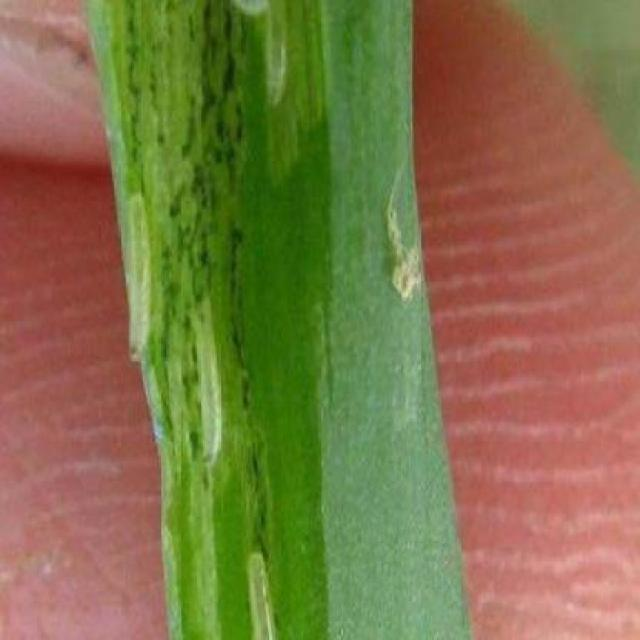whorl-maggot: (188, 288, 229, 475), (123, 183, 157, 369), (242, 535, 283, 640)
